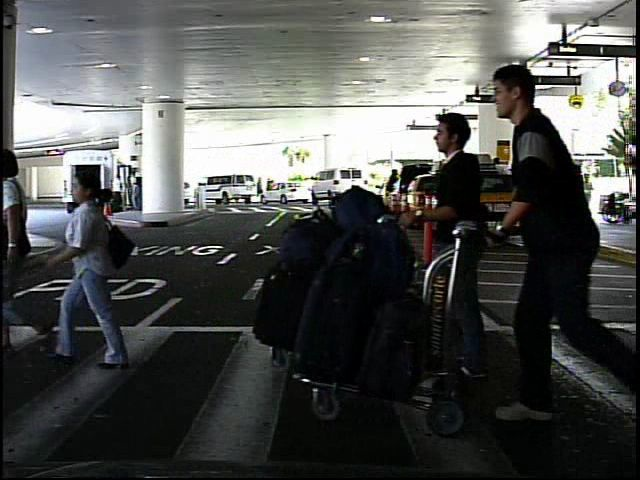person: (494, 48, 610, 425), (397, 107, 512, 394), (42, 157, 139, 382), (108, 171, 127, 221), (582, 170, 602, 216)
